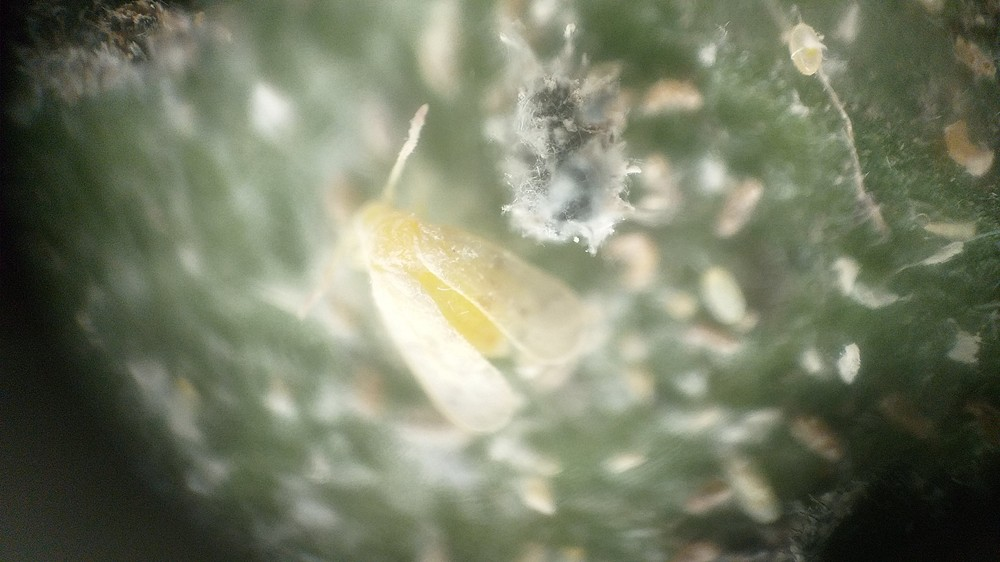Mosca Blanca: (238, 105, 613, 442)
